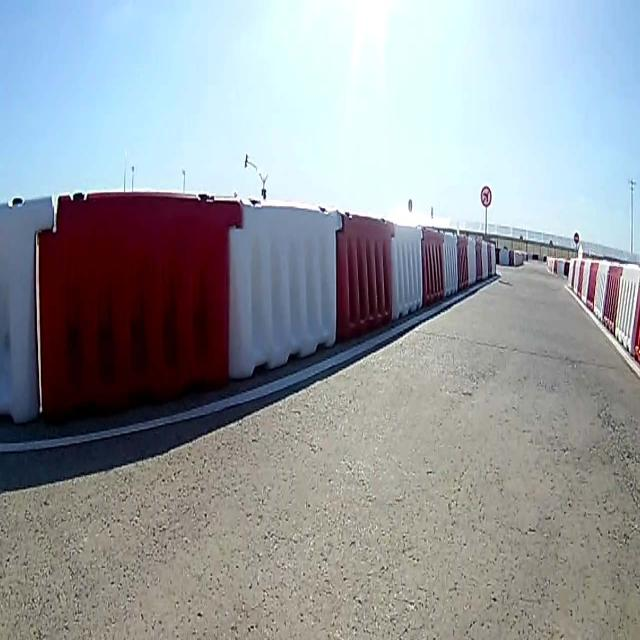soladonulmez: (480, 186, 492, 206)
